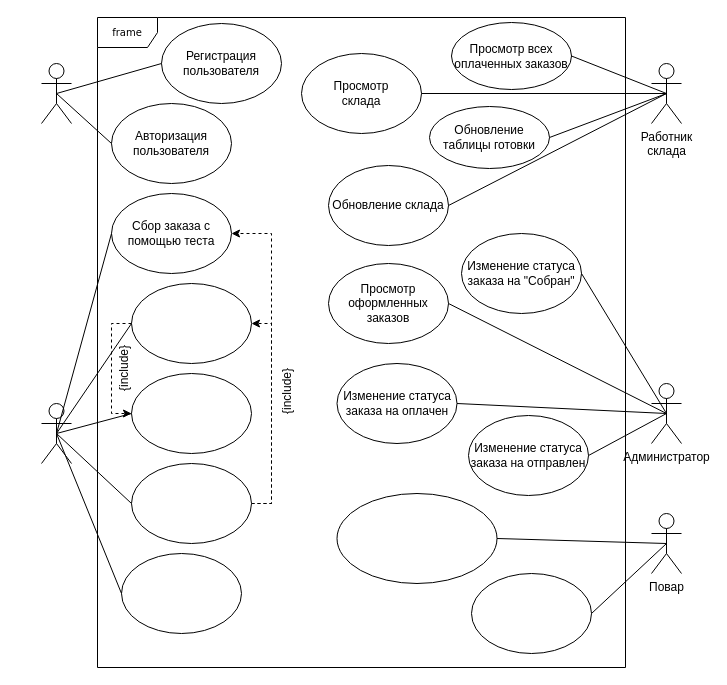
This 727x685 diagram has some shape labels left out. Each missing label, with the centre of its shape:
Гость: the point at 56,93
Обновление таблицы готовки и таблицы наличия вкусов на складе: the point at 416,538
Оформление заказа: the point at 191,503
Пользователь: the point at 56,433
Просмотр каталога шоколада: the point at 191,413
Просмотр личного кабинета: the point at 181,593
Просмотр таблицы, со вкусами которые нужно приготовить: the point at 531,613
Сбор заказа вручную: the point at 191,323
